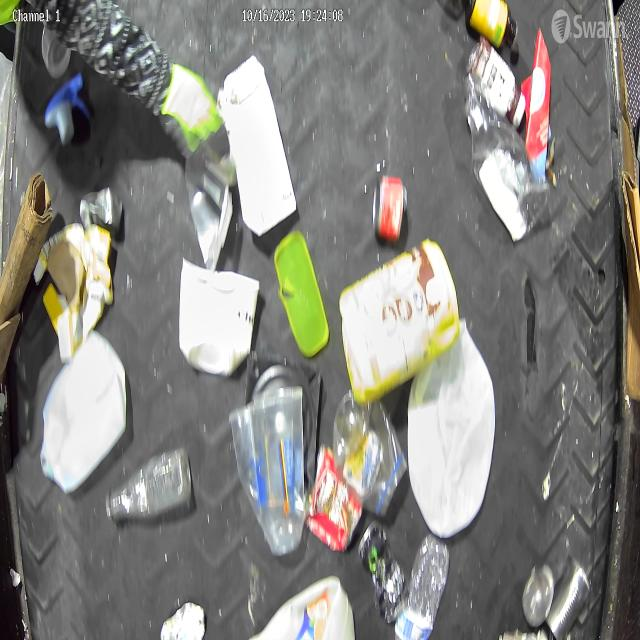can: (304, 442, 364, 553), (358, 516, 408, 625), (545, 554, 592, 640), (372, 174, 405, 246)
milk_jug: (406, 315, 496, 540), (39, 329, 127, 495)
non_white_jug: (338, 236, 463, 406)
plastic_bottle: (462, 68, 550, 243), (104, 444, 194, 526), (392, 531, 450, 640)
